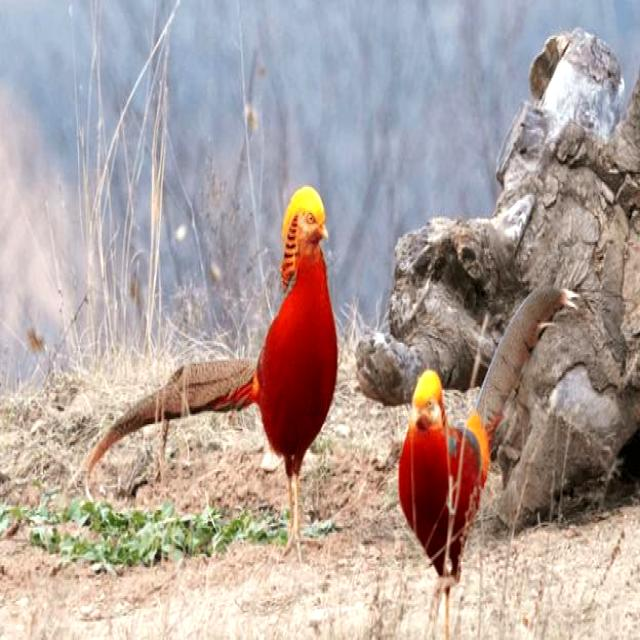Chrysolophus pictus feather: (467, 288, 581, 463), (88, 359, 258, 474)
